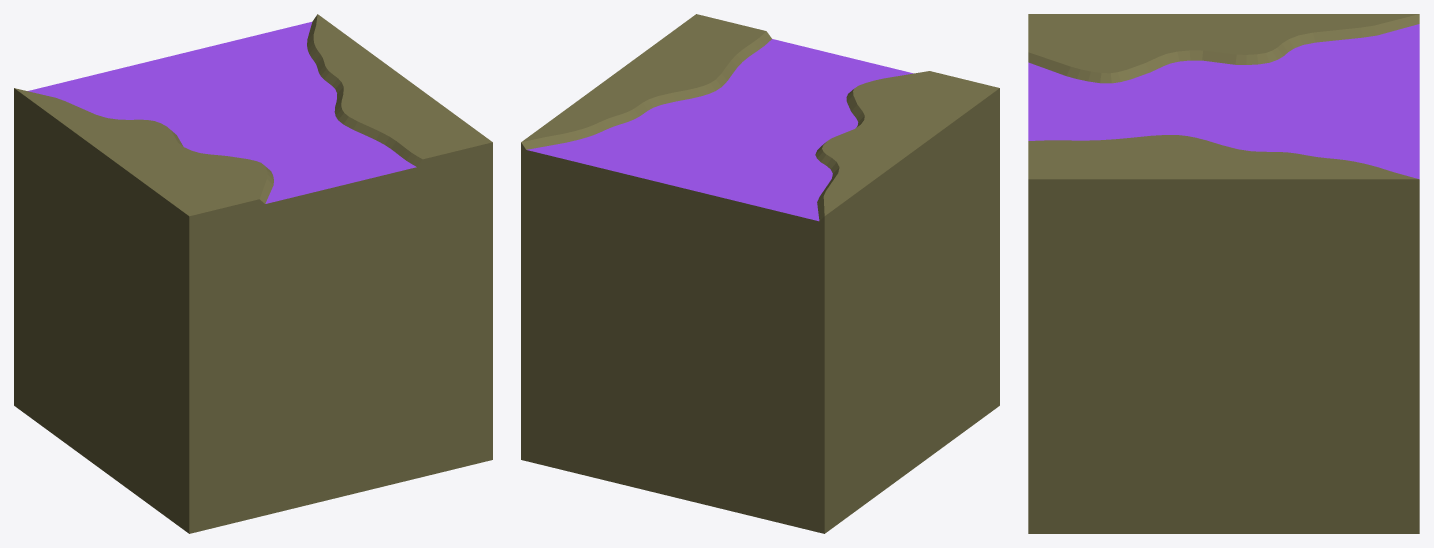
Rendered from tile_toxic_3a_03.fbx.
3 renders of one model, left to right at view 1: azimuth 30°, elevation 25°; view 2: azimuth 150°, elevation 25°; view 3: azimuth 270°, elevation 25°, orthographic. The views are drawn at different scales.
Parts seen in each view (by area): view 1: tile_toxic_3a_03; view 2: tile_toxic_3a_03; view 3: tile_toxic_3a_03.
Part boxes in pixels (x1=…): tile_toxic_3a_03: x1=14, y1=14, x2=492, y2=533; tile_toxic_3a_03: x1=521, y1=14, x2=999, y2=533; tile_toxic_3a_03: x1=1028, y1=14, x2=1419, y2=533.
Size of the model in its own units: 100 by 100 by 100.
